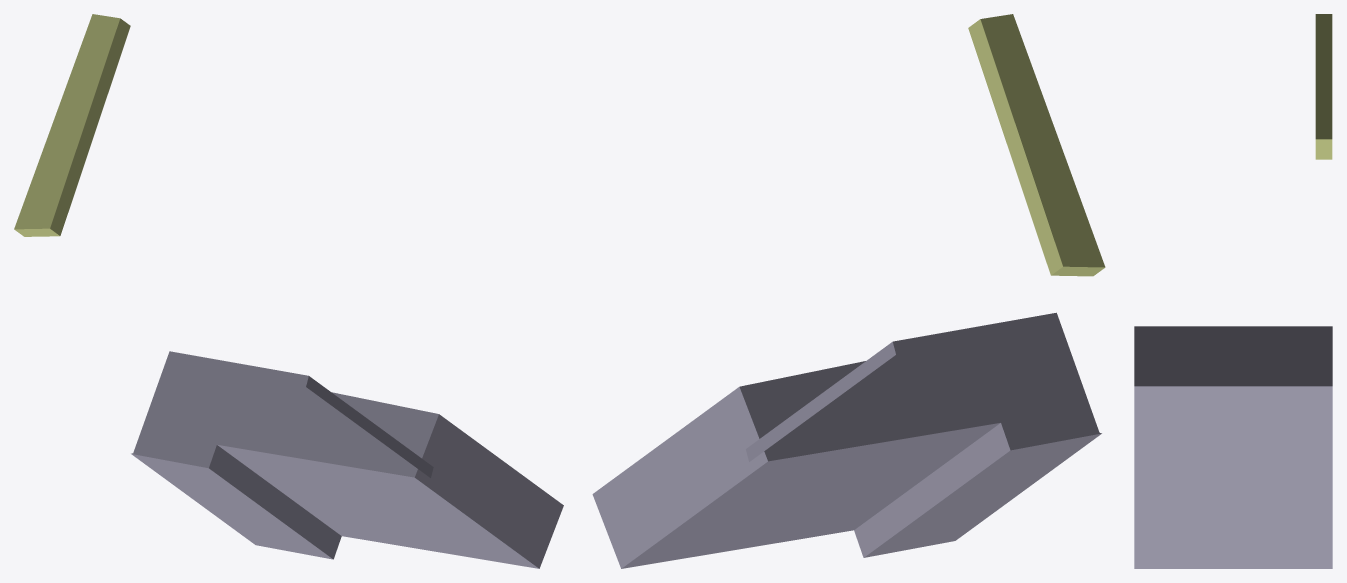
3 renders of one model, left to right at view 1: azimuth 30°, elevation 25°; view 2: azimuth 150°, elevation 25°; view 3: azimuth 270°, elevation 25°, orthographic. The views are drawn at different scales.
Visible parts, largest first — view 1: 0_3_1_3_3_0_3; view 2: 0_3_1_3_3_0_3; view 3: 0_3_1_3_3_0_3.
Boxes of the visible parts, x1=… form: 0_3_1_3_3_0_3: x1=14, y1=14, x2=563, y2=568; 0_3_1_3_3_0_3: x1=592, y1=14, x2=1105, y2=568; 0_3_1_3_3_0_3: x1=1134, y1=14, x2=1332, y2=568.
Size of the model in its own units: 142 by 173 by 72.
